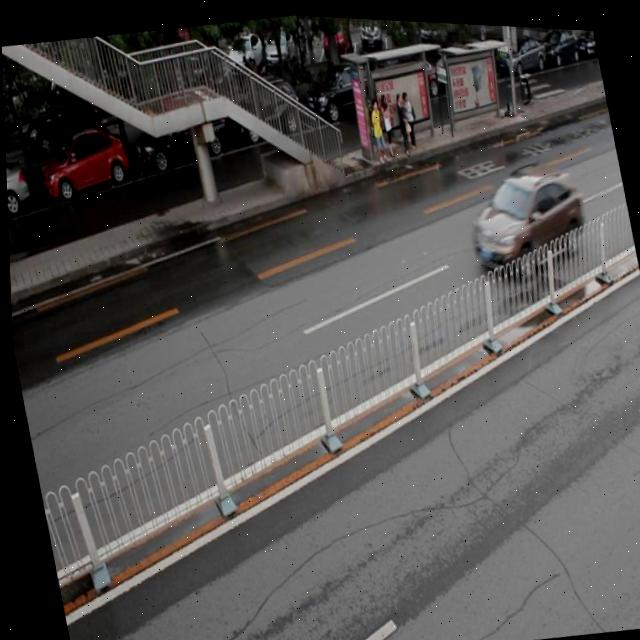car: (457, 153, 589, 276), (33, 124, 131, 206), (130, 95, 230, 170), (299, 48, 382, 124), (227, 73, 307, 144), (4, 153, 33, 222)
